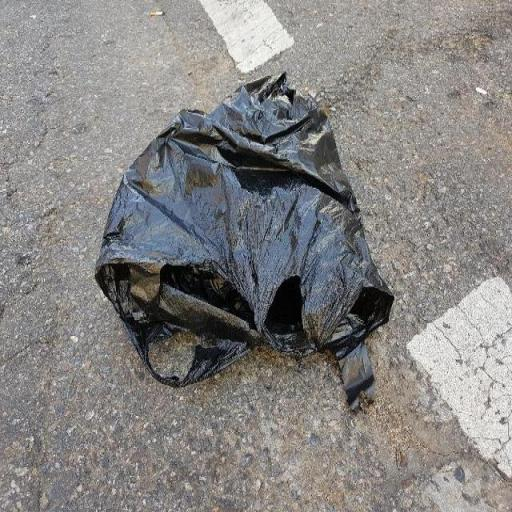plastic-bag: (92, 69, 396, 414)
